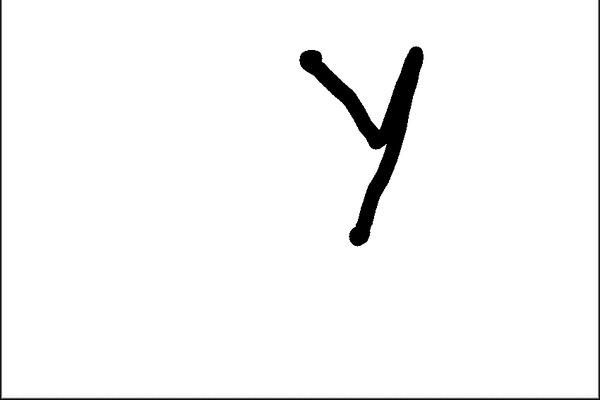Y: (286, 36, 435, 256)
